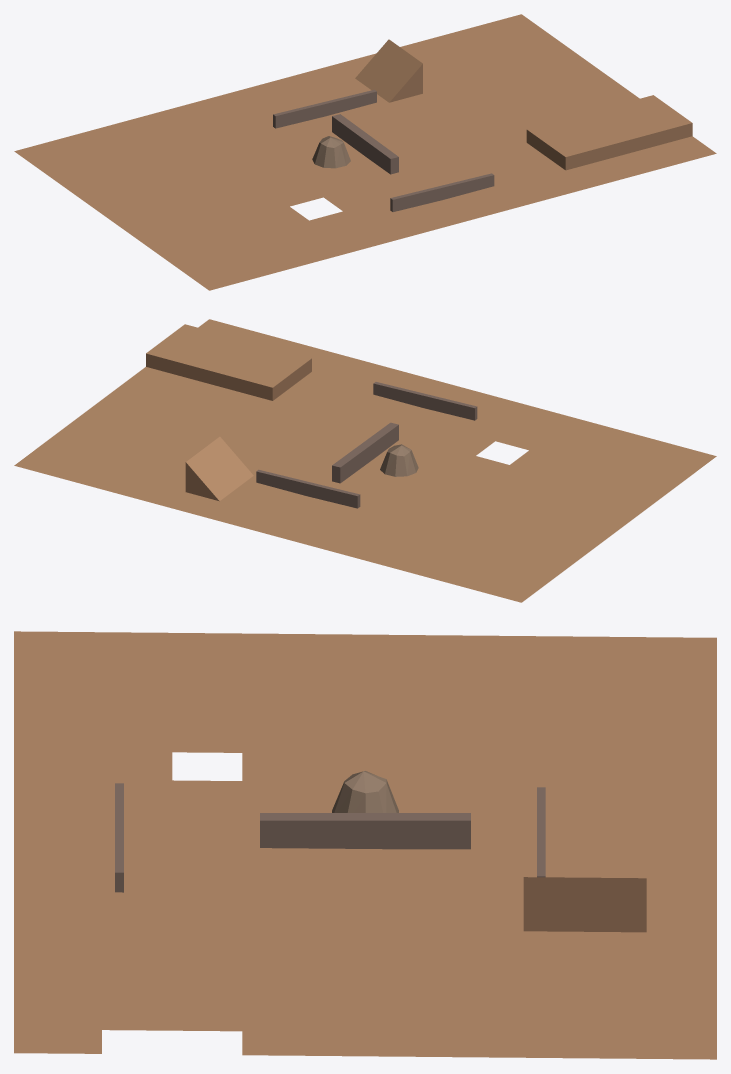
Rendered from terrain.glb.
The picture shows the model from 3 angles, top to bottom: view 1: azimuth 30°, elevation 25°; view 2: azimuth 150°, elevation 25°; view 3: azimuth 270°, elevation 25°; orthographic projection. The views are drawn at different scales.
Visible parts, largest first — view 1: ground_ROVER_MEASURED, visual_cliff_sides, obstacle_corridor_divider, obstacle_corridor_south_wall, obstacle_corridor_north_wall, obstacle_boulder; view 2: ground_ROVER_MEASURED, visual_cliff_sides, obstacle_corridor_divider, obstacle_corridor_south_wall, obstacle_corridor_north_wall, obstacle_boulder; view 3: ground_ROVER_MEASURED, obstacle_corridor_divider, visual_cliff_sides, obstacle_boulder, obstacle_corridor_south_wall, obstacle_corridor_north_wall.
Boxes of the visible parts, x1,y1,x2,y2 form: ground_ROVER_MEASURED: (14, 14, 716, 290); visual_cliff_sides: (389, 64, 692, 170); obstacle_corridor_divider: (332, 114, 398, 174); obstacle_corridor_south_wall: (390, 173, 494, 211); obstacle_corridor_north_wall: (273, 89, 376, 128); obstacle_boulder: (312, 136, 350, 168); ground_ROVER_MEASURED: (14, 319, 716, 602); visual_cliff_sides: (146, 353, 311, 501); obstacle_corridor_divider: (332, 422, 398, 483); obstacle_corridor_south_wall: (373, 382, 477, 420); obstacle_corridor_north_wall: (256, 469, 360, 508); obstacle_boulder: (380, 444, 418, 476); ground_ROVER_MEASURED: (14, 631, 716, 1059); obstacle_corridor_divider: (260, 813, 470, 849); visual_cliff_sides: (523, 877, 646, 932); obstacle_boulder: (332, 771, 398, 812); obstacle_corridor_south_wall: (115, 783, 123, 892); obstacle_corridor_north_wall: (537, 787, 545, 877).
Bounding box in the file's own units: 60 × 4.56 × 40.
